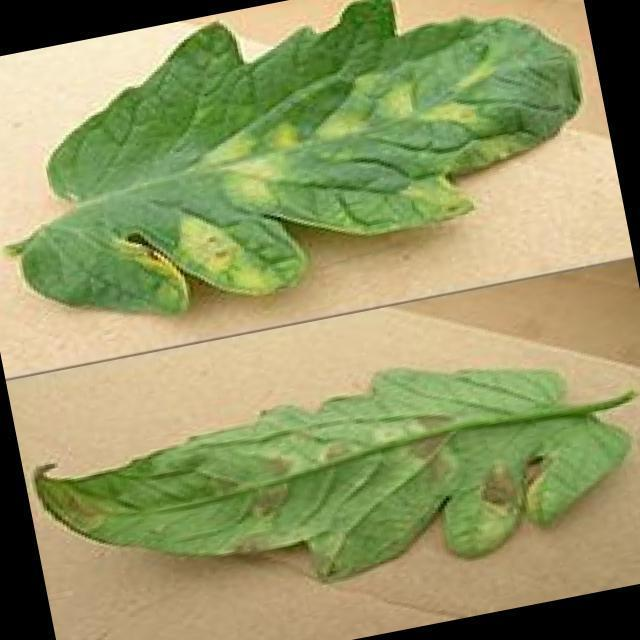Mosaic Virus: (39, 340, 628, 624), (56, 25, 586, 334)
